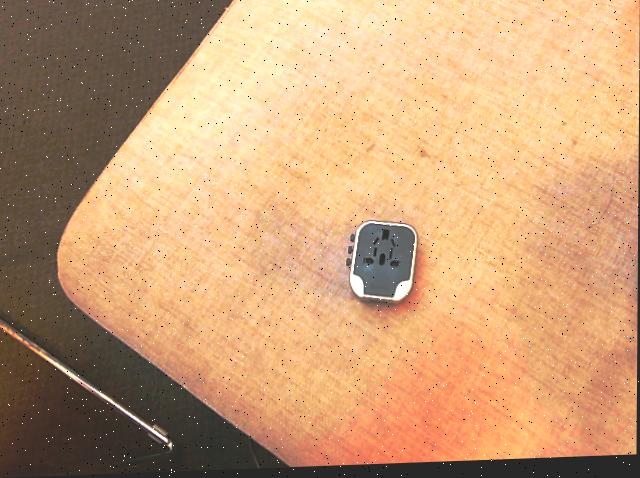adapter: (345, 221, 418, 308)
